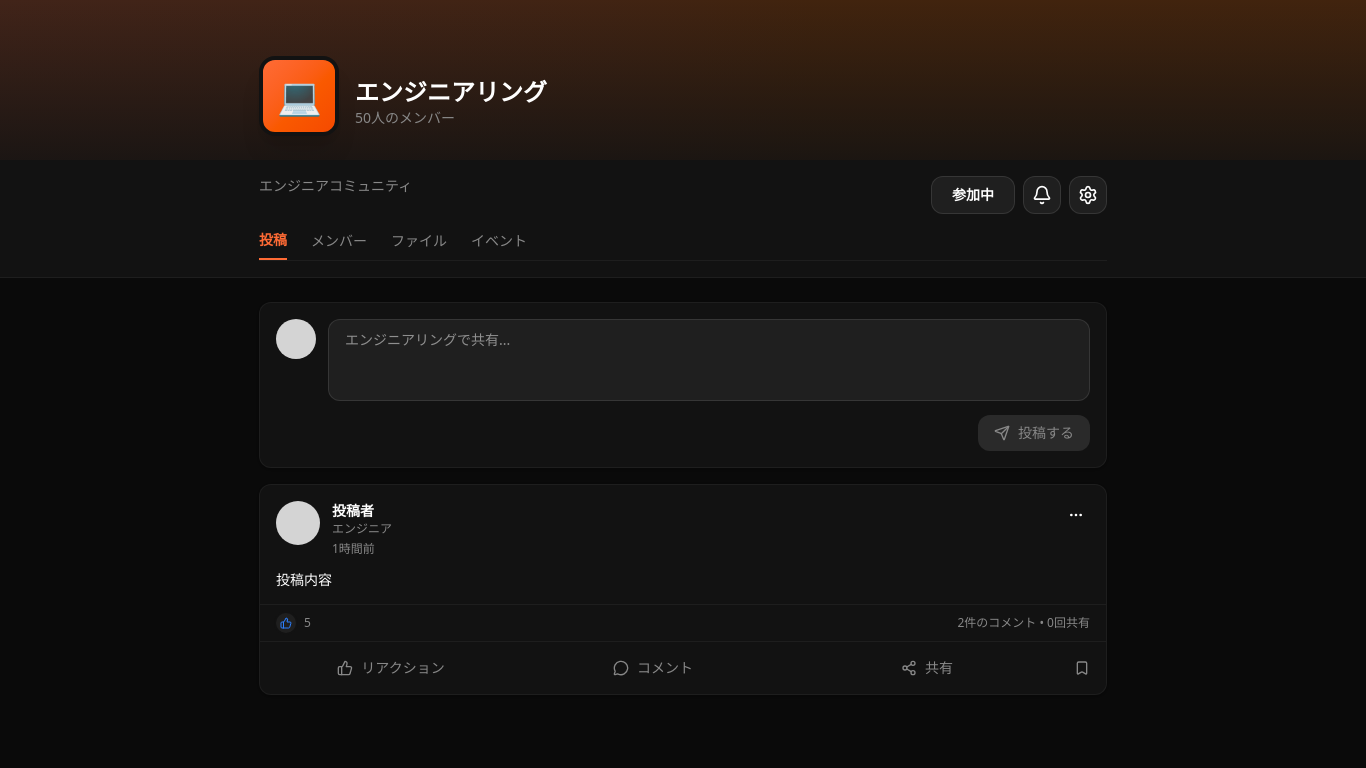
it: Comments / DisplayMetadata › should display metadata for replies
// Expand comments
Click the button "コメント" at (653, 668), box left=518, top=650, right=788, bottom=686
(page scrolled)
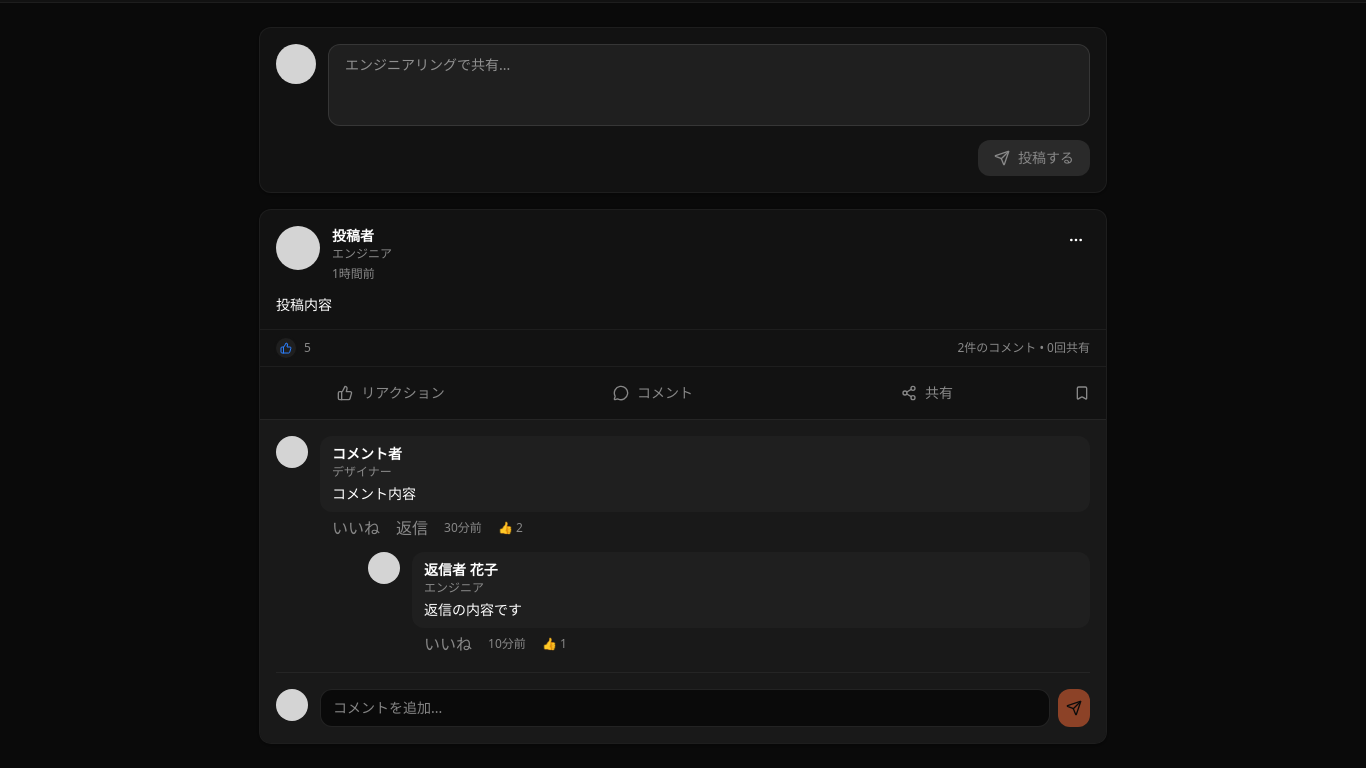
Expected: the heading "返信者 花子" is shown, left=424, top=560, right=498, bottom=579
Expected: the text "10分前" is shown, left=488, top=636, right=526, bottom=652
Expected: the text "返信の内容です" is shown, left=424, top=600, right=522, bottom=619
